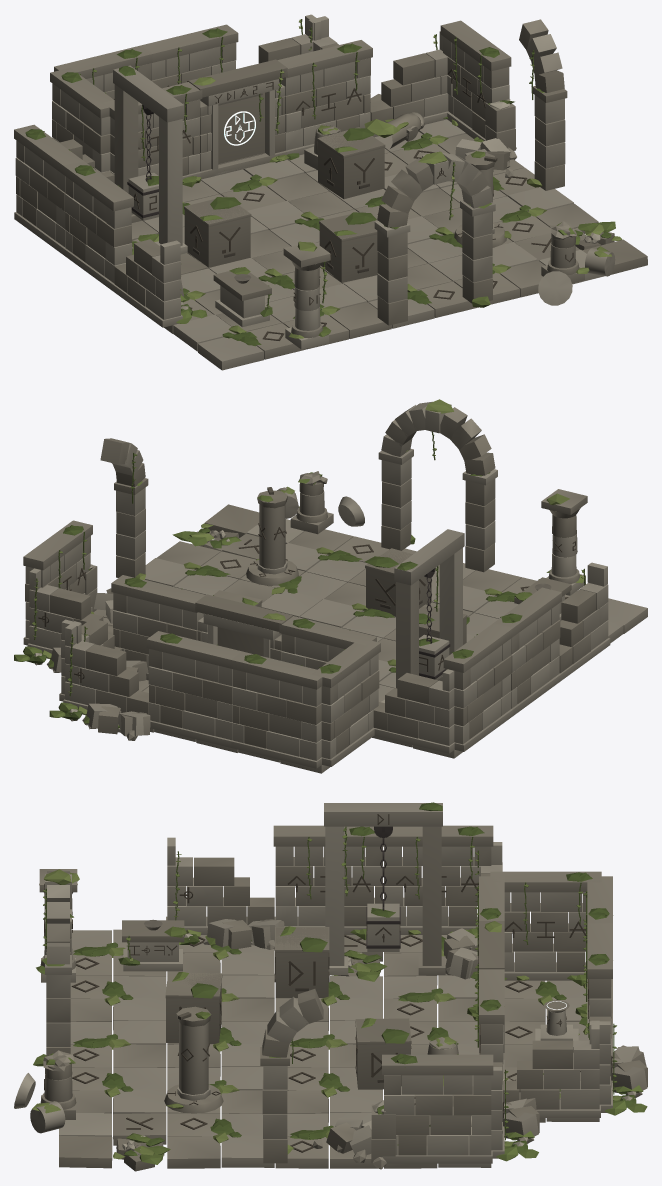
The model's file is ruin_assembly_example.glb.
3 renders of one model, top to bottom at view 1: azimuth 30°, elevation 25°; view 2: azimuth 150°, elevation 25°; view 3: azimuth 270°, elevation 25°, orthographic. The views are drawn at different scales.
Visible parts, largest first — view 1: ruin_arch_01_stone, ruin_wall_02_stone, ruin_arch_broken_01_stone, ruin_counterweight_frame_01_stone, ruin_wall_07_stone, ruin_wall_doorway_01_stone, ruin_wall_06_stone, ruin_wall_08_stone, ruin_wall_broken_05_stone, ruin_wall_broken_02_stone, ruin_wall_03_stone, ruin_floor_tile_03_stone (+35 smaller); view 2: ruin_arch_01_stone, ruin_wall_04_stone, ruin_wall_05_stone, ruin_wall_broken_04_stone, ruin_wall_06_stone, ruin_counterweight_frame_01_stone, ruin_wall_03_stone, ruin_wall_broken_01_stone, ruin_wall_07_stone, ruin_wall_02_stone, ruin_arch_broken_01_stone, ruin_wall_broken_05_stone (+27 smaller); view 3: ruin_wall_08_stone, ruin_wall_03_stone, ruin_counterweight_frame_01_stone, ruin_wall_07_stone, ruin_arch_broken_01_stone, ruin_wall_06_stone, ruin_wall_broken_05_stone, ruin_wall_broken_03_stone, ruin_floor_tile_18_stone, ruin_floor_tile_cracked_02_stone, ruin_arch_01_stone, ruin_floor_tile_11_stone (+47 smaller).
Part boxes in pixels (x1,y1,x2,y2): ruin_arch_01_stone: (374, 152, 495, 325); ruin_wall_02_stone: (277, 40, 372, 155); ruin_arch_broken_01_stone: (455, 19, 567, 190); ruin_counterweight_frame_01_stone: (113, 65, 187, 254); ruin_wall_07_stone: (63, 161, 133, 290); ruin_wall_doorway_01_stone: (188, 59, 287, 179); ruin_wall_06_stone: (14, 124, 84, 255); ruin_wall_08_stone: (440, 20, 511, 140); ruin_wall_broken_05_stone: (113, 239, 188, 327); ruin_wall_broken_02_stone: (370, 31, 448, 137); ruin_wall_03_stone: (50, 68, 113, 172); ruin_floor_tile_03_stone: (173, 313, 306, 370); ruin_arch_01_stone: (378, 401, 497, 572); ruin_wall_04_stone: (231, 651, 326, 768); ruin_wall_05_stone: (146, 631, 241, 747); ruin_wall_broken_04_stone: (63, 621, 150, 740); ruin_wall_06_stone: (443, 623, 513, 751); ruin_counterweight_frame_01_stone: (394, 529, 464, 688); ruin_wall_03_stone: (311, 641, 380, 766); ruin_wall_broken_01_stone: (373, 669, 454, 753); ruin_wall_07_stone: (493, 587, 561, 715); ruin_wall_02_stone: (111, 575, 205, 680); ruin_arch_broken_01_stone: (84, 438, 148, 623); ruin_wall_broken_05_stone: (559, 562, 610, 680); ruin_wall_08_stone: (382, 1054, 493, 1163); ruin_wall_03_stone: (490, 871, 601, 980); ruin_counterweight_frame_01_stone: (324, 803, 445, 975); ruin_wall_07_stone: (273, 825, 384, 934); ruin_arch_broken_01_stone: (260, 989, 395, 1169); ruin_wall_06_stone: (382, 825, 493, 934); ruin_wall_broken_05_stone: (166, 837, 284, 950); ruin_wall_broken_03_stone: (502, 1020, 600, 1117); ruin_floor_tile_18_stone: (167, 1113, 274, 1168); ruin_floor_tile_cracked_02_stone: (59, 1113, 166, 1171); ruin_arch_01_stone: (44, 871, 71, 1056); ruin_floor_tile_11_stone: (70, 1021, 166, 1067).
Size of the model in its own units: 21.15 by 7.51 by 23.41.
